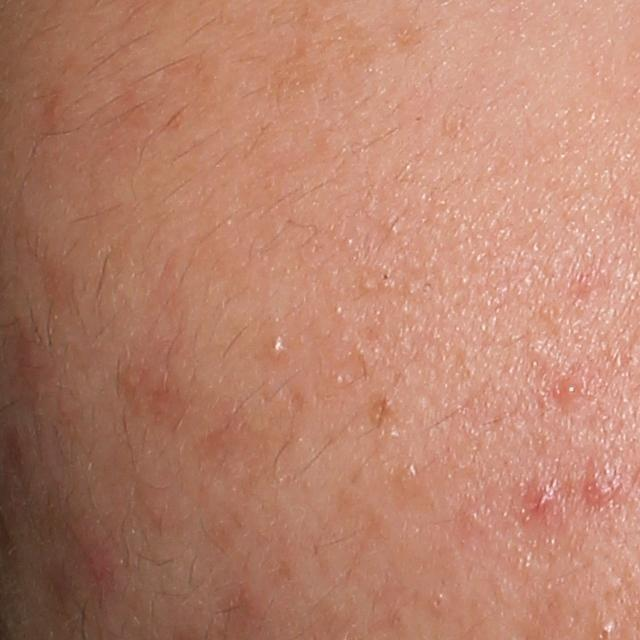comedo: (377, 266, 395, 290), (272, 334, 288, 352)
papule: (528, 482, 559, 517), (555, 373, 587, 405), (586, 474, 614, 506)
